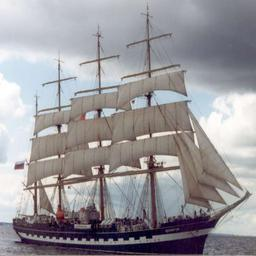Ship: (11, 41, 254, 256)
